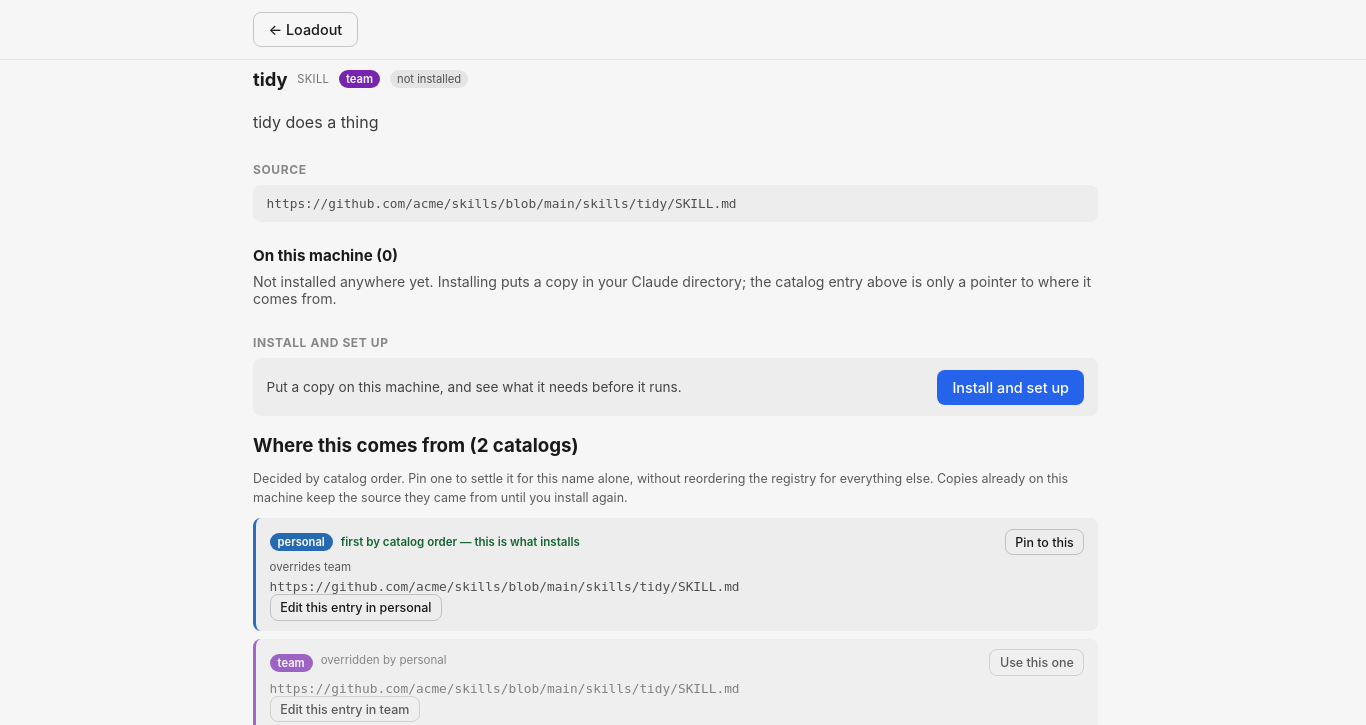
Scenario: UI-30: pinning › switches the files over only once confirmed, and says what it overwrote
Click the button "Use this one" at (1037, 663), box [989,649,1084,676]
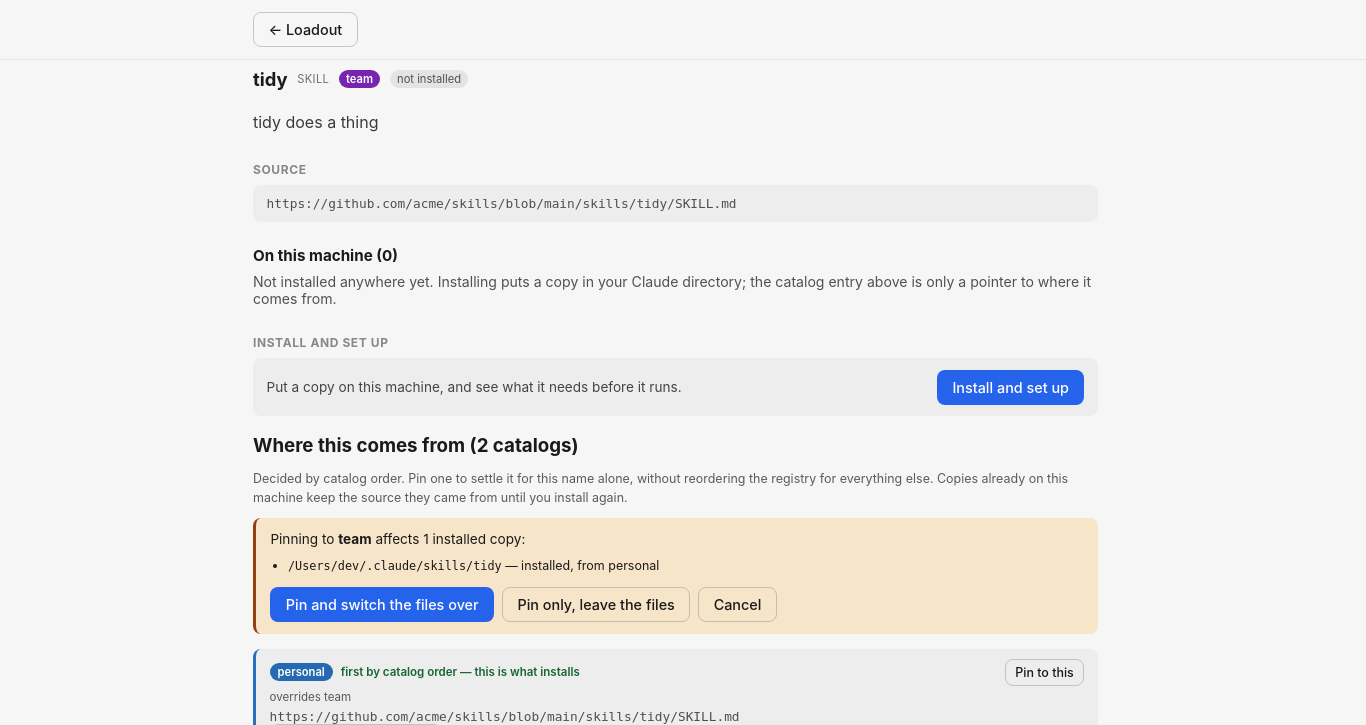
Click the button "Pin and switch the files over" at (382, 605), box [270,587,494,622]
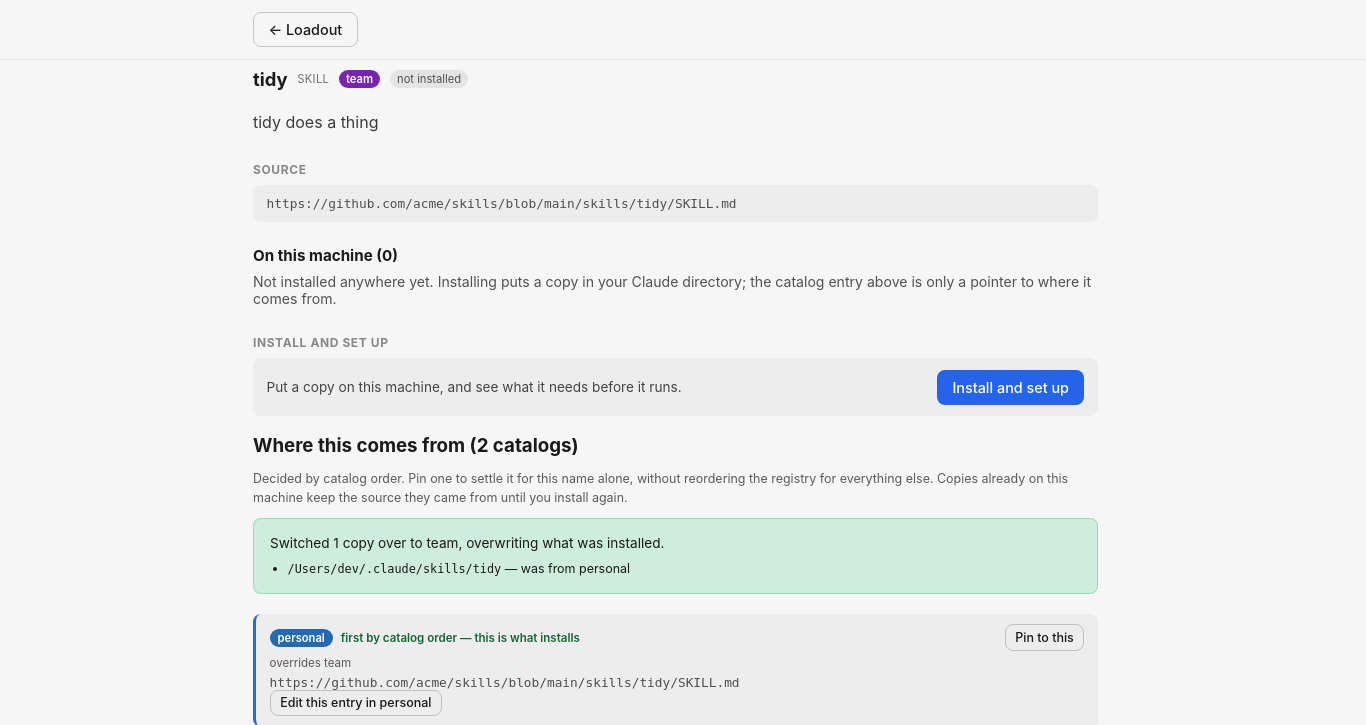
Expected: the text with class "entry-detail__switch-lede" reads "Switched 1 copy over to team, overwriting what was installed.", [270,535,664,551]
